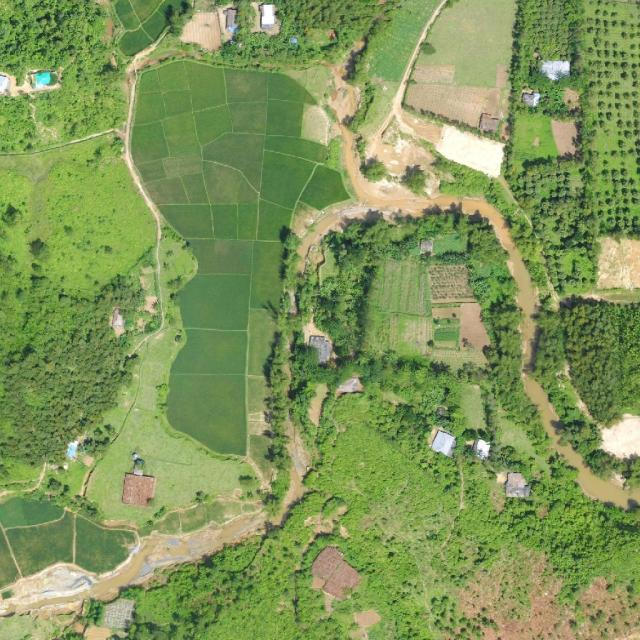agricultural_land: (120, 40, 381, 464), (363, 254, 497, 372)
greenland: (0, 139, 155, 462)
unmetalled_road: (0, 505, 275, 630), (118, 494, 272, 586)
